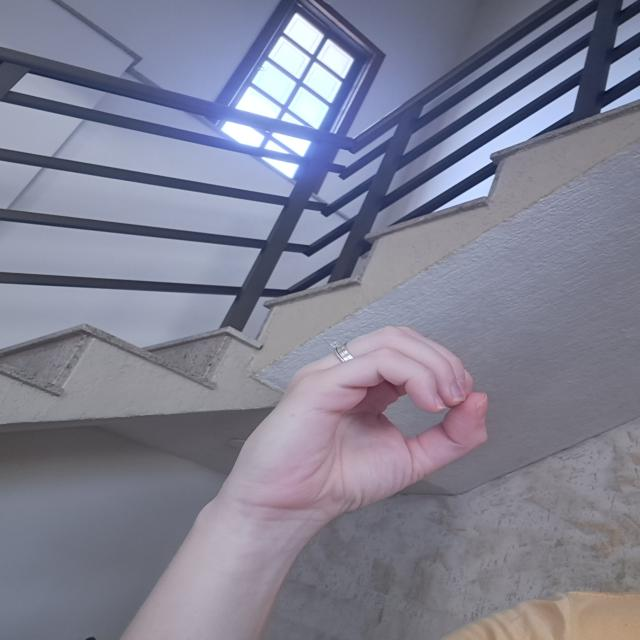O: (225, 312, 497, 531)
